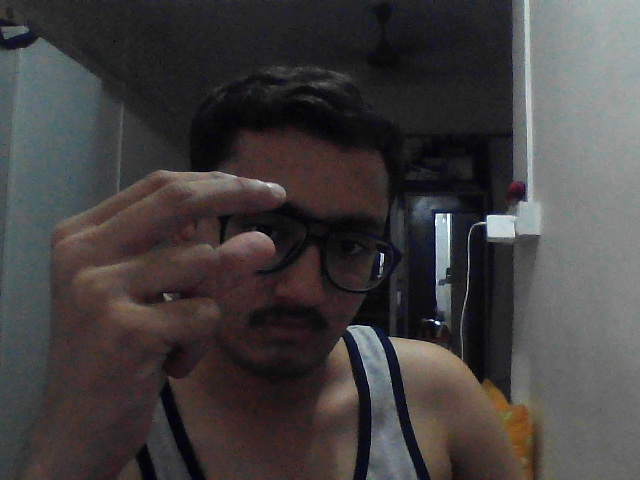No: (22, 155, 320, 355)
